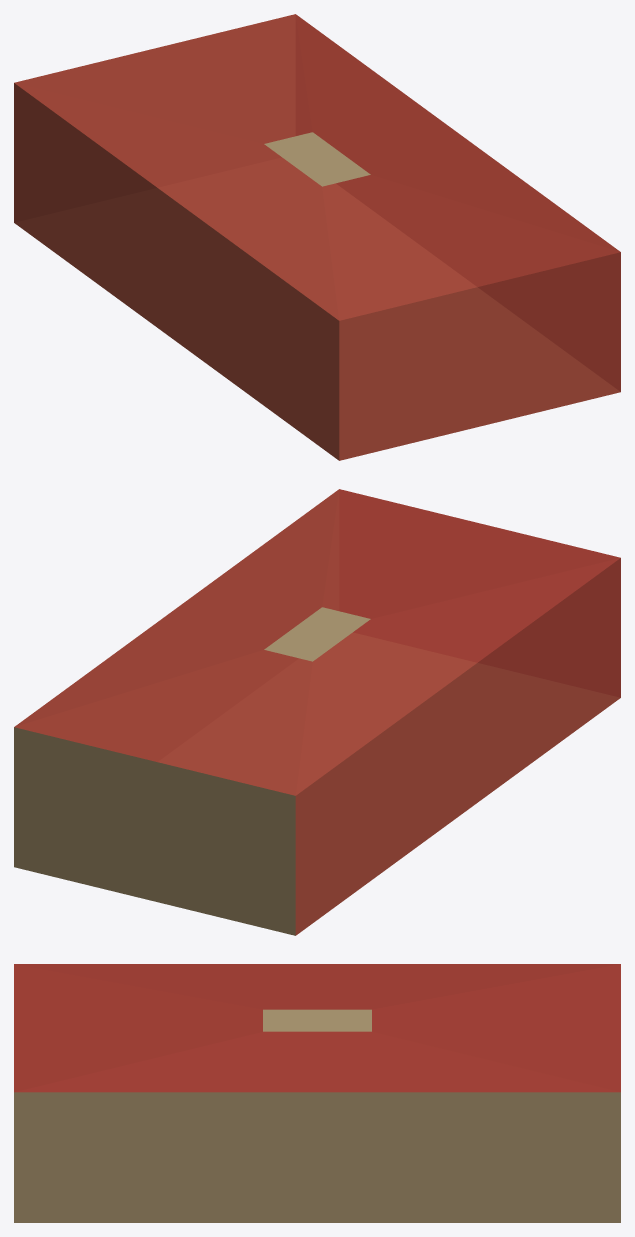
File: meat_01.FBX
The picture shows the model from 3 angles, top to bottom: view 1: azimuth 30°, elevation 25°; view 2: azimuth 150°, elevation 25°; view 3: azimuth 270°, elevation 25°; orthographic projection. The views are drawn at different scales.
Parts seen in each view (by area): view 1: Meat; view 2: Meat; view 3: Meat.
Part boxes in pixels (x1,y1,x2,y2): Meat: (14, 14, 620, 460); Meat: (14, 489, 620, 935); Meat: (14, 964, 620, 1222).
Bounding box in the file's own units: 10 × 5.02 × 20.
